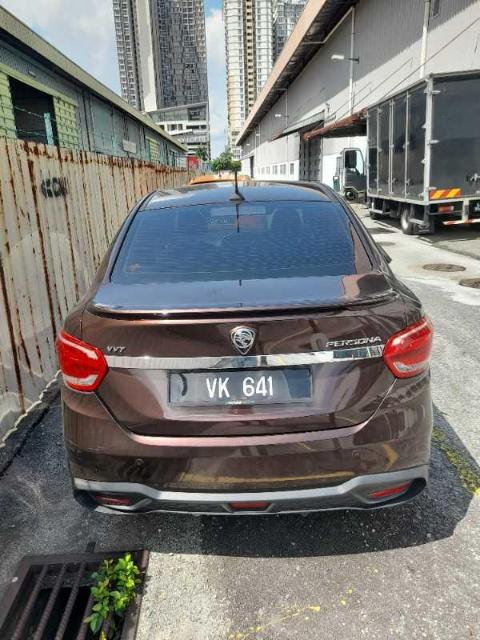License_Plate: (167, 366, 315, 408)
car: (56, 173, 435, 518)
